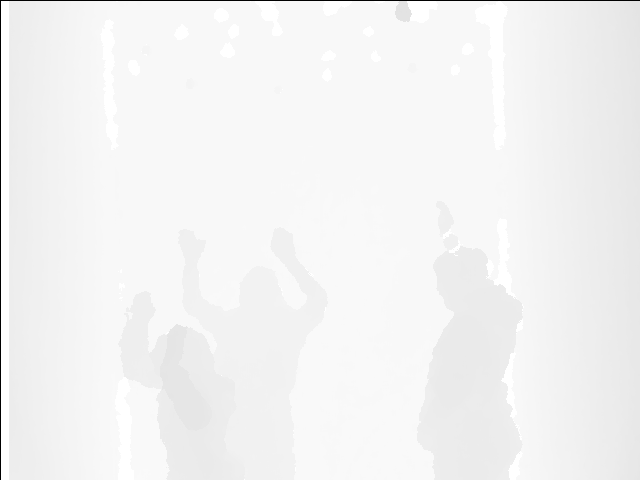hand: (270, 225, 299, 266), (126, 285, 156, 324), (179, 226, 207, 267), (431, 198, 458, 235)
